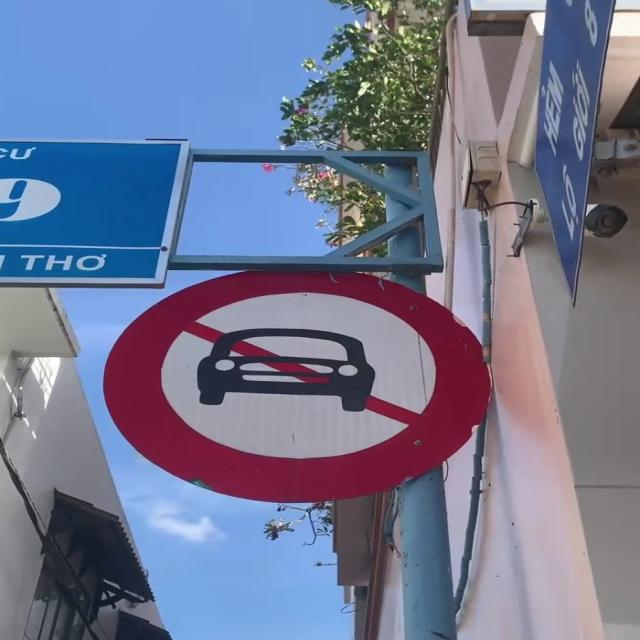Cam_O_To: (102, 267, 494, 500)
